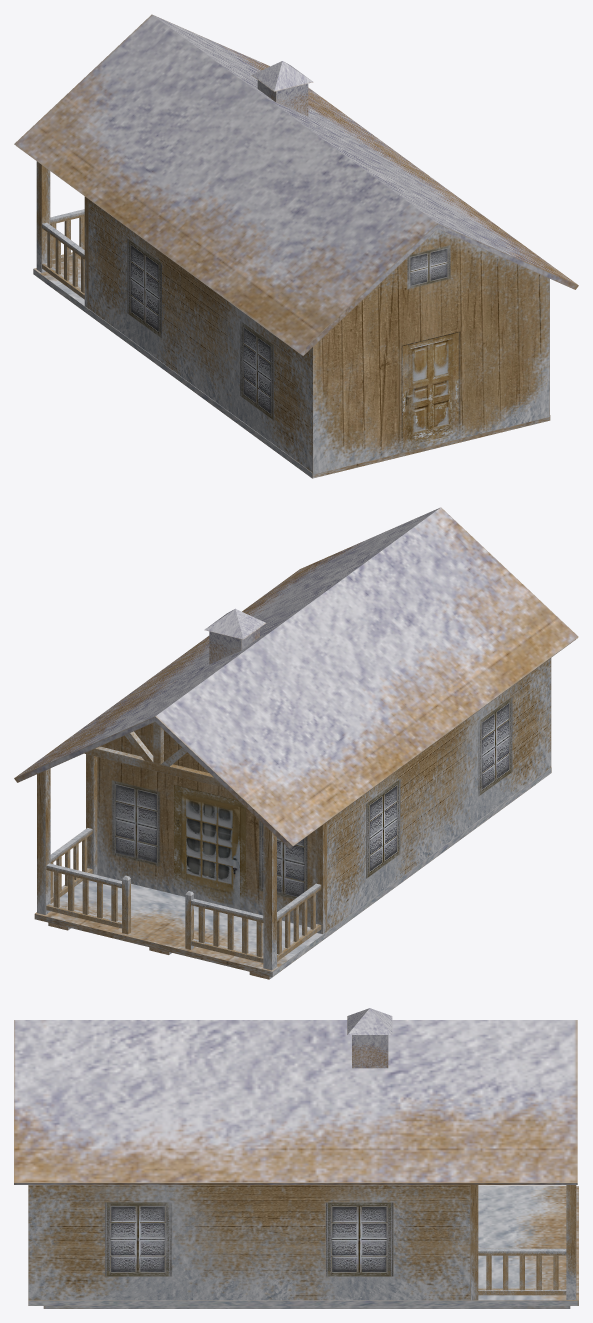
The model's file is house_winter.glb.
3 views of the same model, one above another, from view 1: azimuth 30°, elevation 25°; view 2: azimuth 150°, elevation 25°; view 3: azimuth 270°, elevation 25° (orthographic).
Visible parts, largest first — view 1: Cottage_House; view 2: Cottage_House; view 3: Cottage_House.
Boxes of the visible parts, box(x1,y1,x2,y2) form: Cottage_House: box(14, 14, 578, 478); Cottage_House: box(14, 507, 578, 979); Cottage_House: box(14, 1008, 578, 1308).
Bounding box in the file's own units: 65.76 × 59.31 × 117.
1 material, 1 textured.
